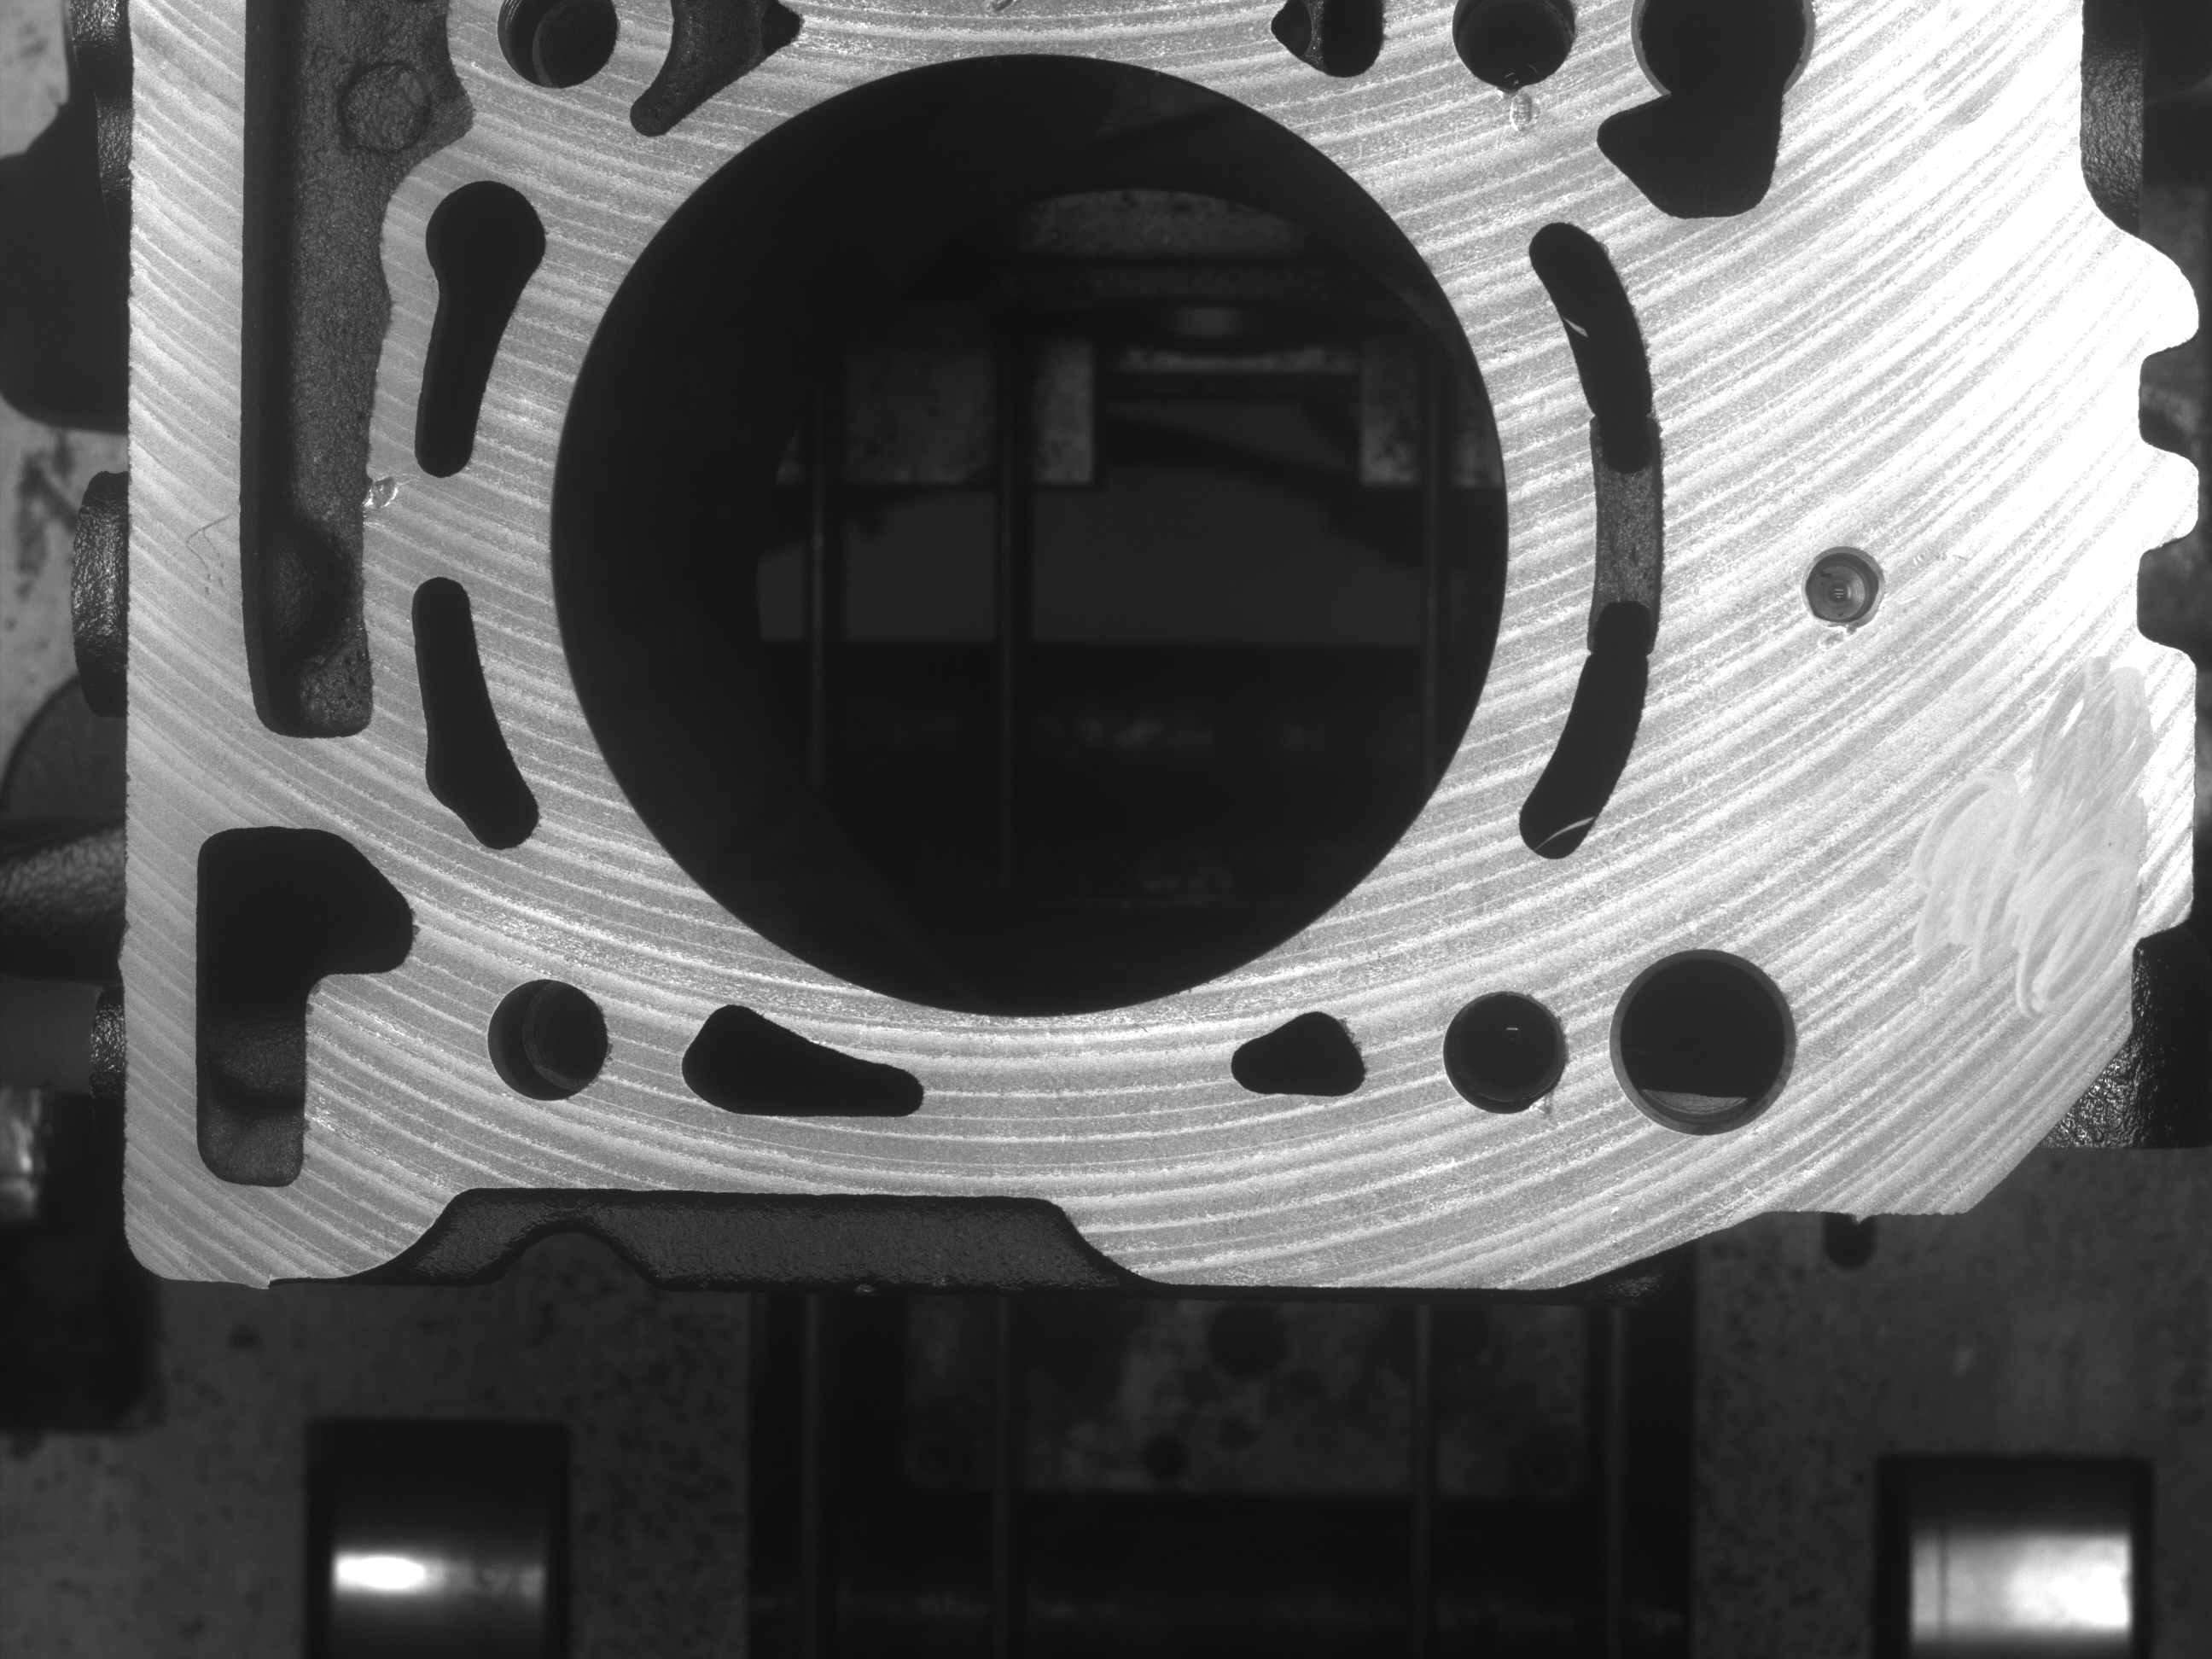dirty: (1935, 636, 2153, 1012)
sandhole: (1505, 80, 1552, 143), (1815, 622, 1857, 652)
shrinkage: (364, 457, 408, 516), (1533, 1093, 1569, 1124)
